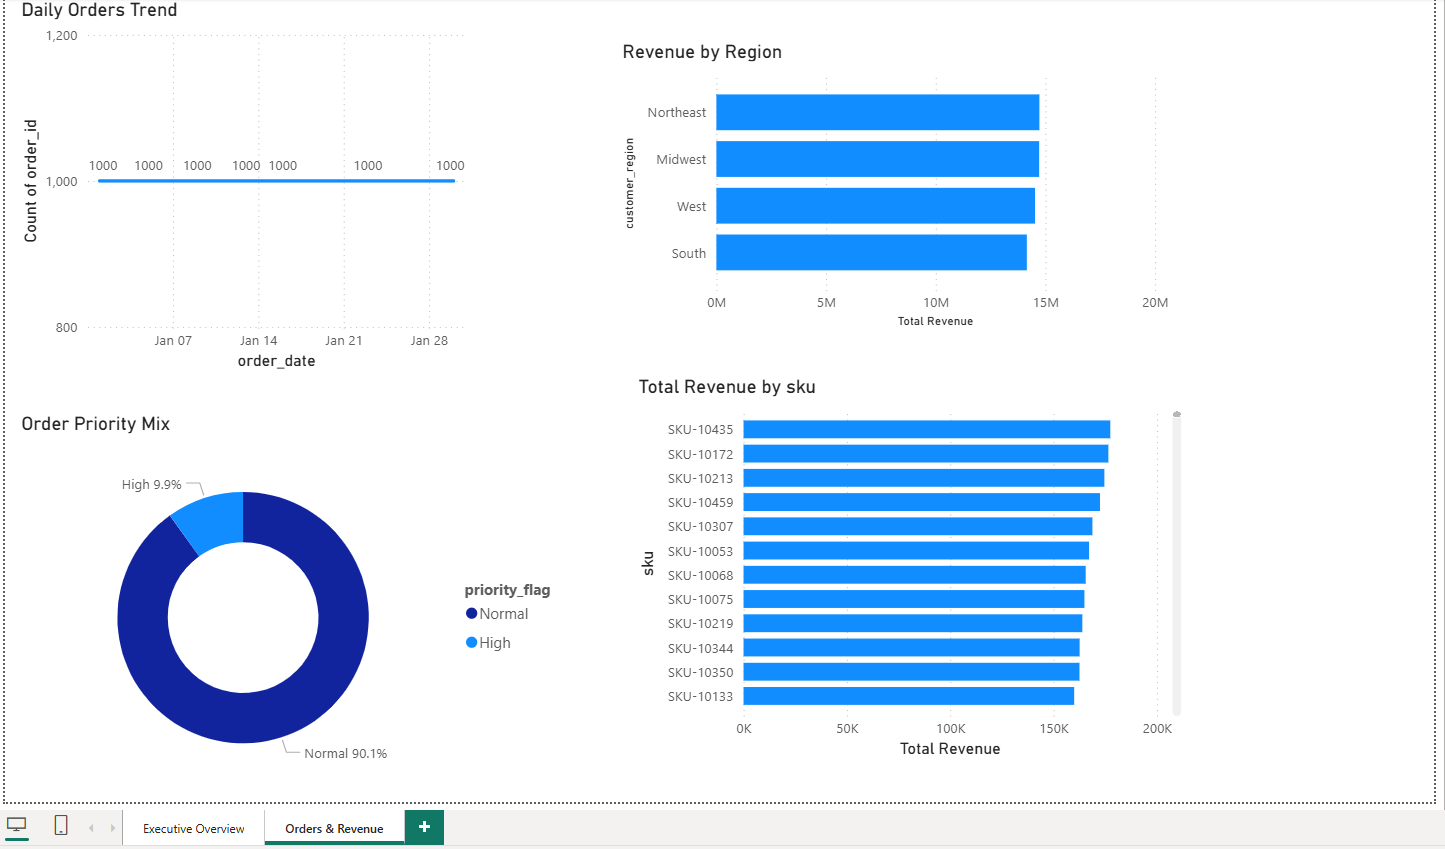

The page's visual inventory and layout, read from the dashboard file:
{"tool":"powerbi","page":{"name":"Orders & Revenue","canvas":[1280,720],"ordinal":1},"visuals":[{"type":"lineChart","title":"Daily Orders Trend","fields":{"Category":["orders_clean.order_date"],"Y":["CountNonNull(orders_clean.order_id)"]},"box":[9.9,0,413.7,337.6],"z":0},{"type":"clusteredBarChart","title":"Revenue by Region","fields":{"Category":["orders_clean.customer_region"],"Y":["inventory_clean.Total Revenue"]},"box":[548.1,37.6,498.8,262.4],"z":1},{"type":"donutChart","title":"Order Priority Mix","fields":{"Category":["orders_clean.priority_flag"],"Y":["CountNonNull(orders_clean.order_id)"]},"box":[9.9,370.7,499.7,349.3],"z":2},{"type":"clusteredBarChart","fields":{"Category":["orders_clean.sku"],"Y":["inventory_clean.Total Revenue"]},"box":[562.4,337.6,496.1,347.5],"z":3}]}

Visuals, with their boxes on the page's 1280x720 design canvas (x1, y1, x2, y2). These are canvas units, not pixel positions in the 1445x849 screenshot, which may show the page scaled, cropped or inside an application window:
"Daily Orders Trend" lineChart: bbox=[10, 0, 424, 338]
"Revenue by Region" clusteredBarChart: bbox=[548, 38, 1047, 300]
"Order Priority Mix" donutChart: bbox=[10, 371, 510, 720]
clusteredBarChart - orders_clean.sku x inventory_clean.Total Revenue: bbox=[562, 338, 1058, 685]
